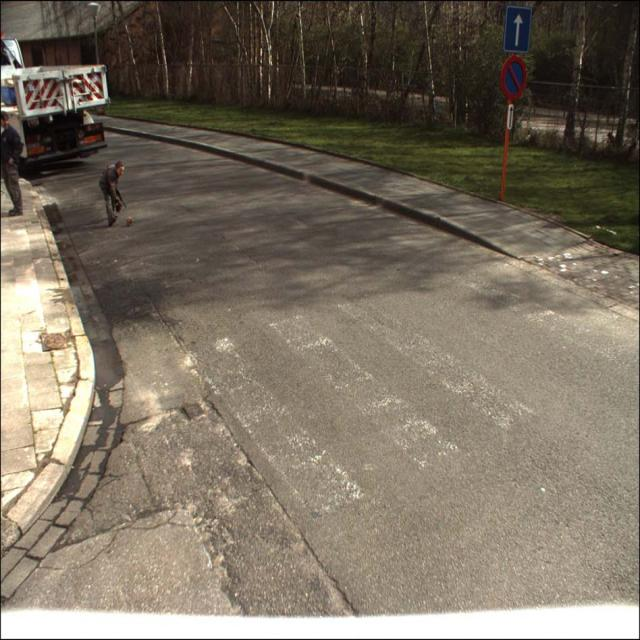parkyasak: (501, 55, 527, 99)
